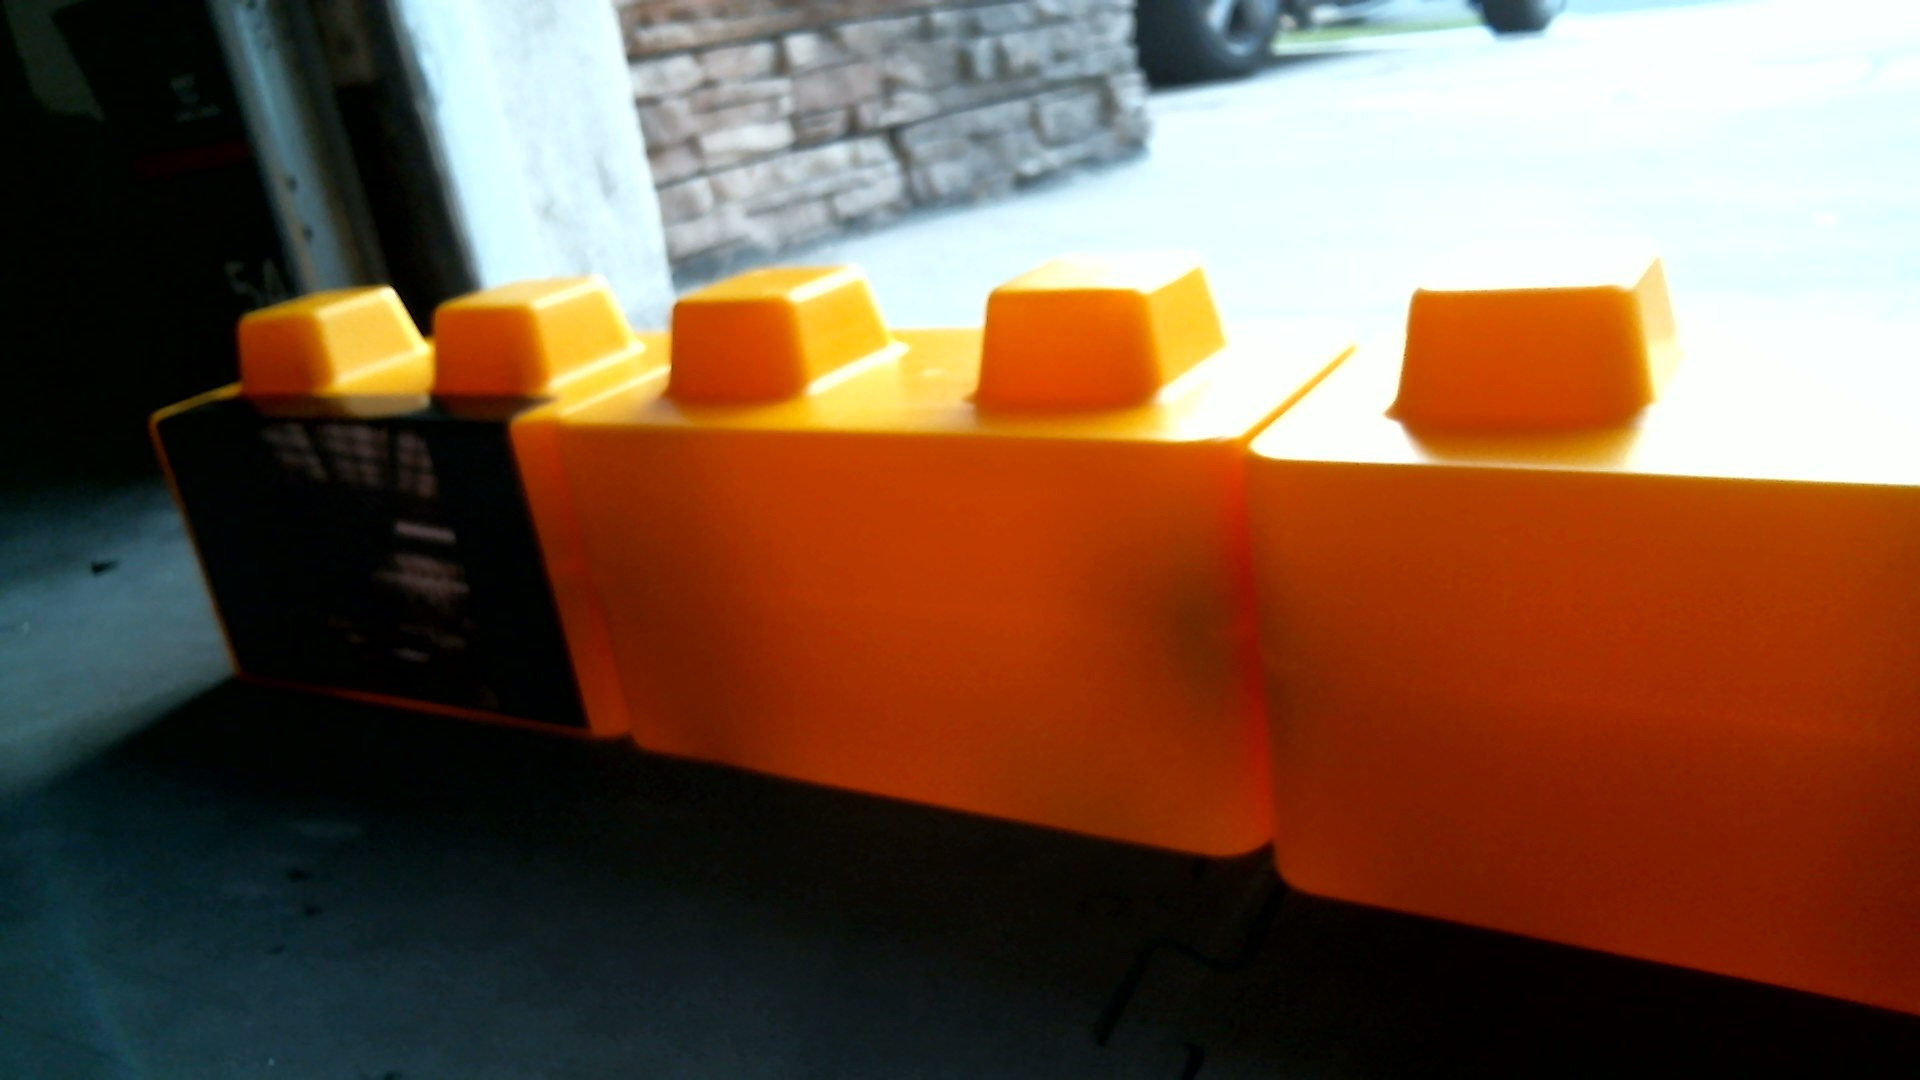left: (137, 270, 1919, 975)
